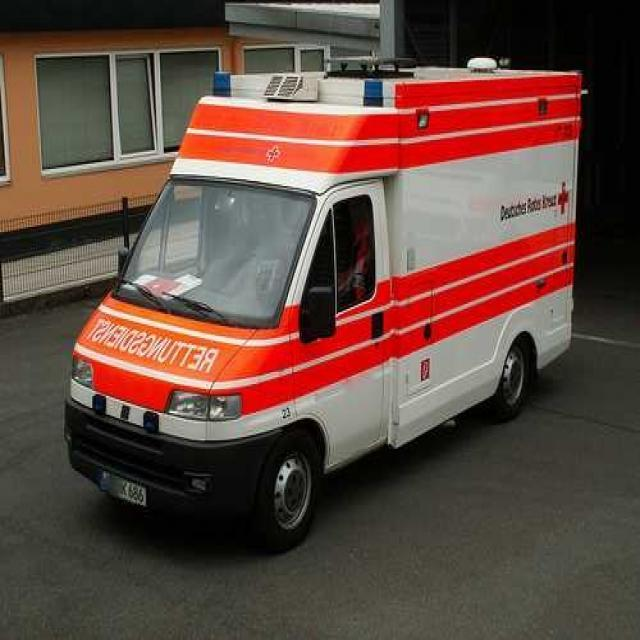emergency-vehicle: (68, 46, 586, 541)
